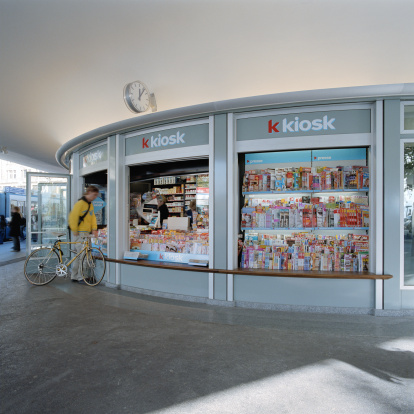em pe: (64, 171, 103, 255)
